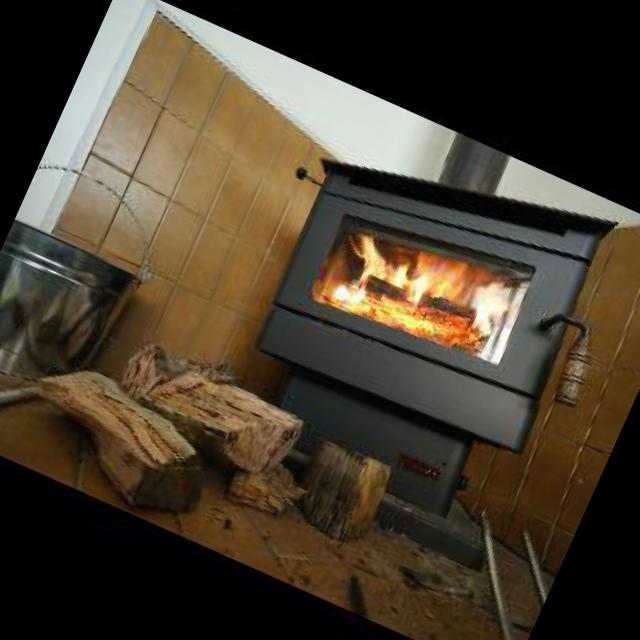fire: (314, 212, 508, 362)
